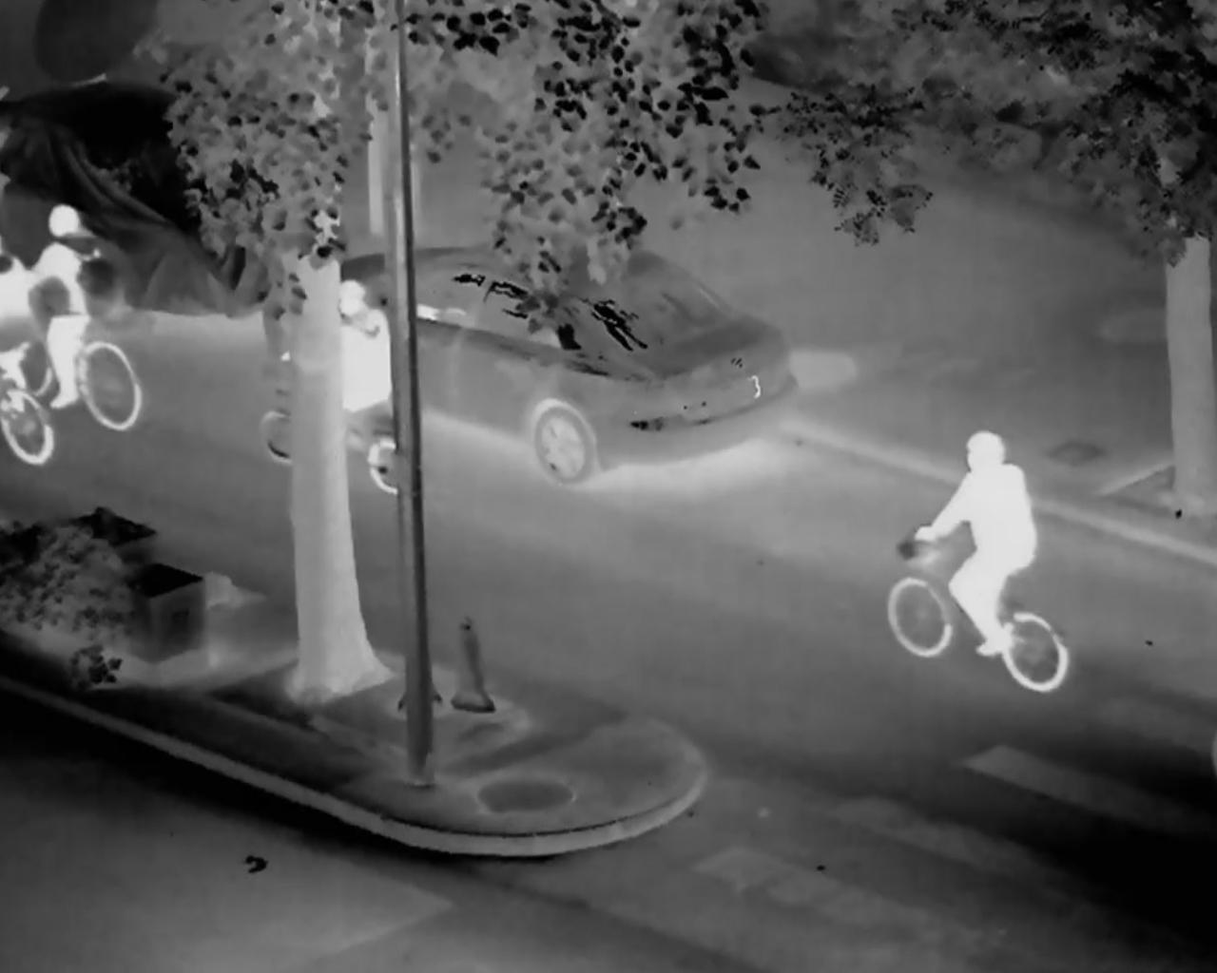person: (909, 429, 1035, 657), (26, 202, 115, 410), (282, 279, 391, 424)
